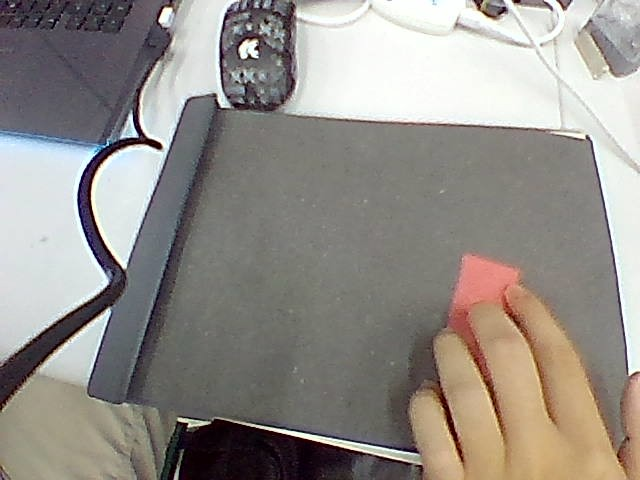card: (448, 254, 519, 370)
